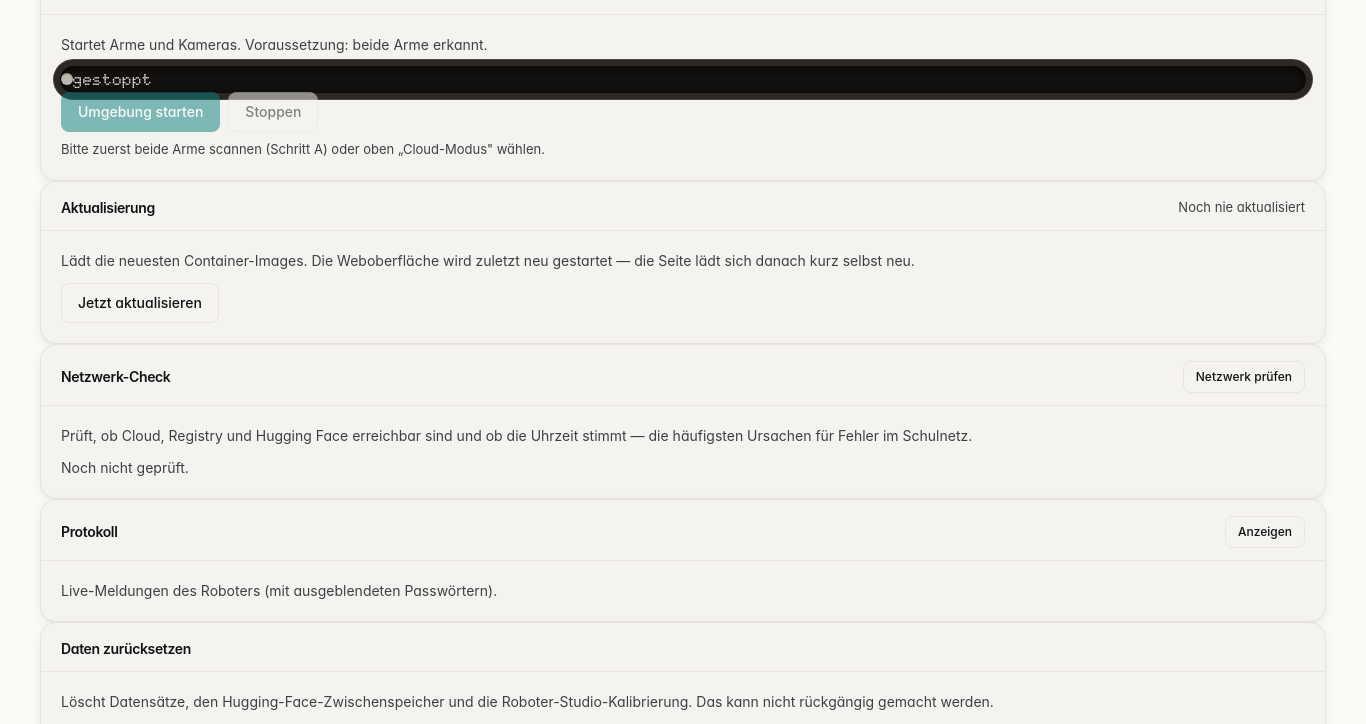
Test: SystemPage › runs the Netzwerk-Check and renders green/red German lines with hints
This screenshot has width=1366, height=724.
(page scrolled)
Click the button "Netzwerk prüfen": click(1244, 377) [1183,361,1305,393]
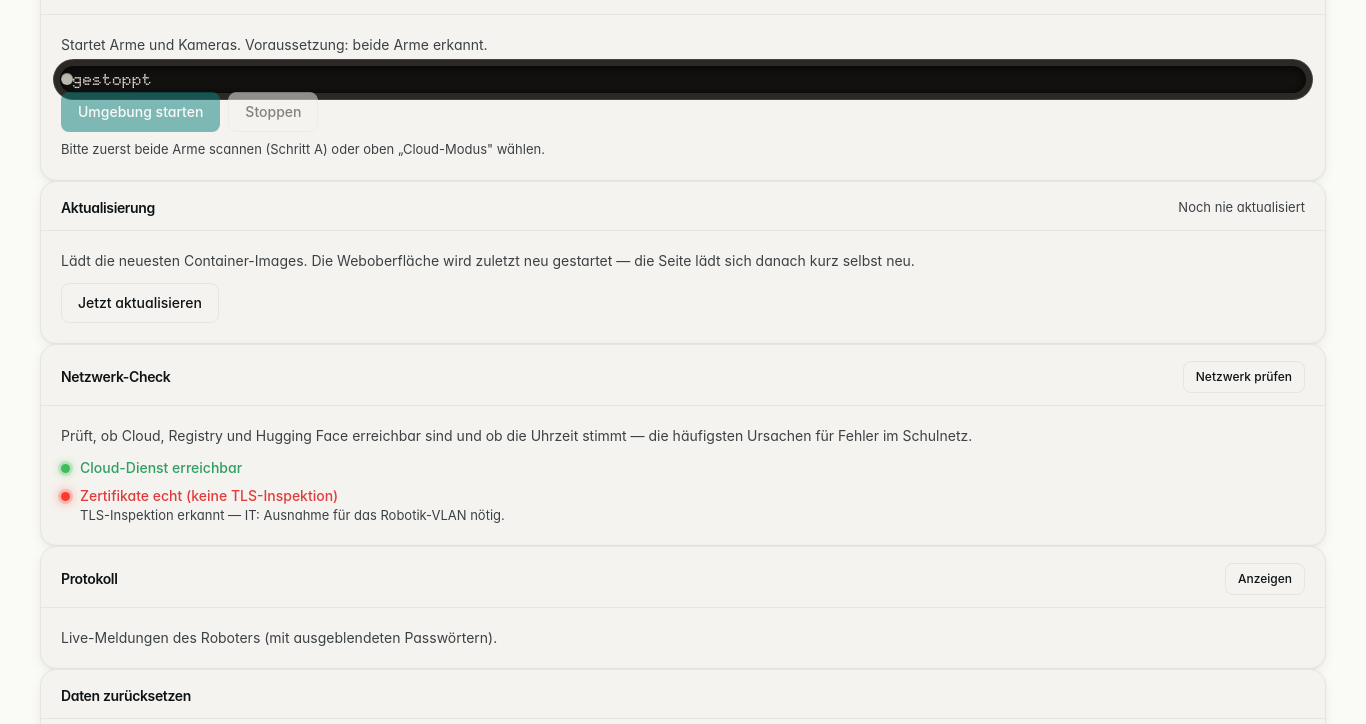
Now the text "Cloud-Dienst erreichbar" is shown, box [80,458,242,478]
Now the text "Zertifikate echt (keine TLS-Inspektion)" is shown, box [80,487,338,504]
Now the text "TLS-Inspektion erkannt" is shown, box [80,507,505,523]
